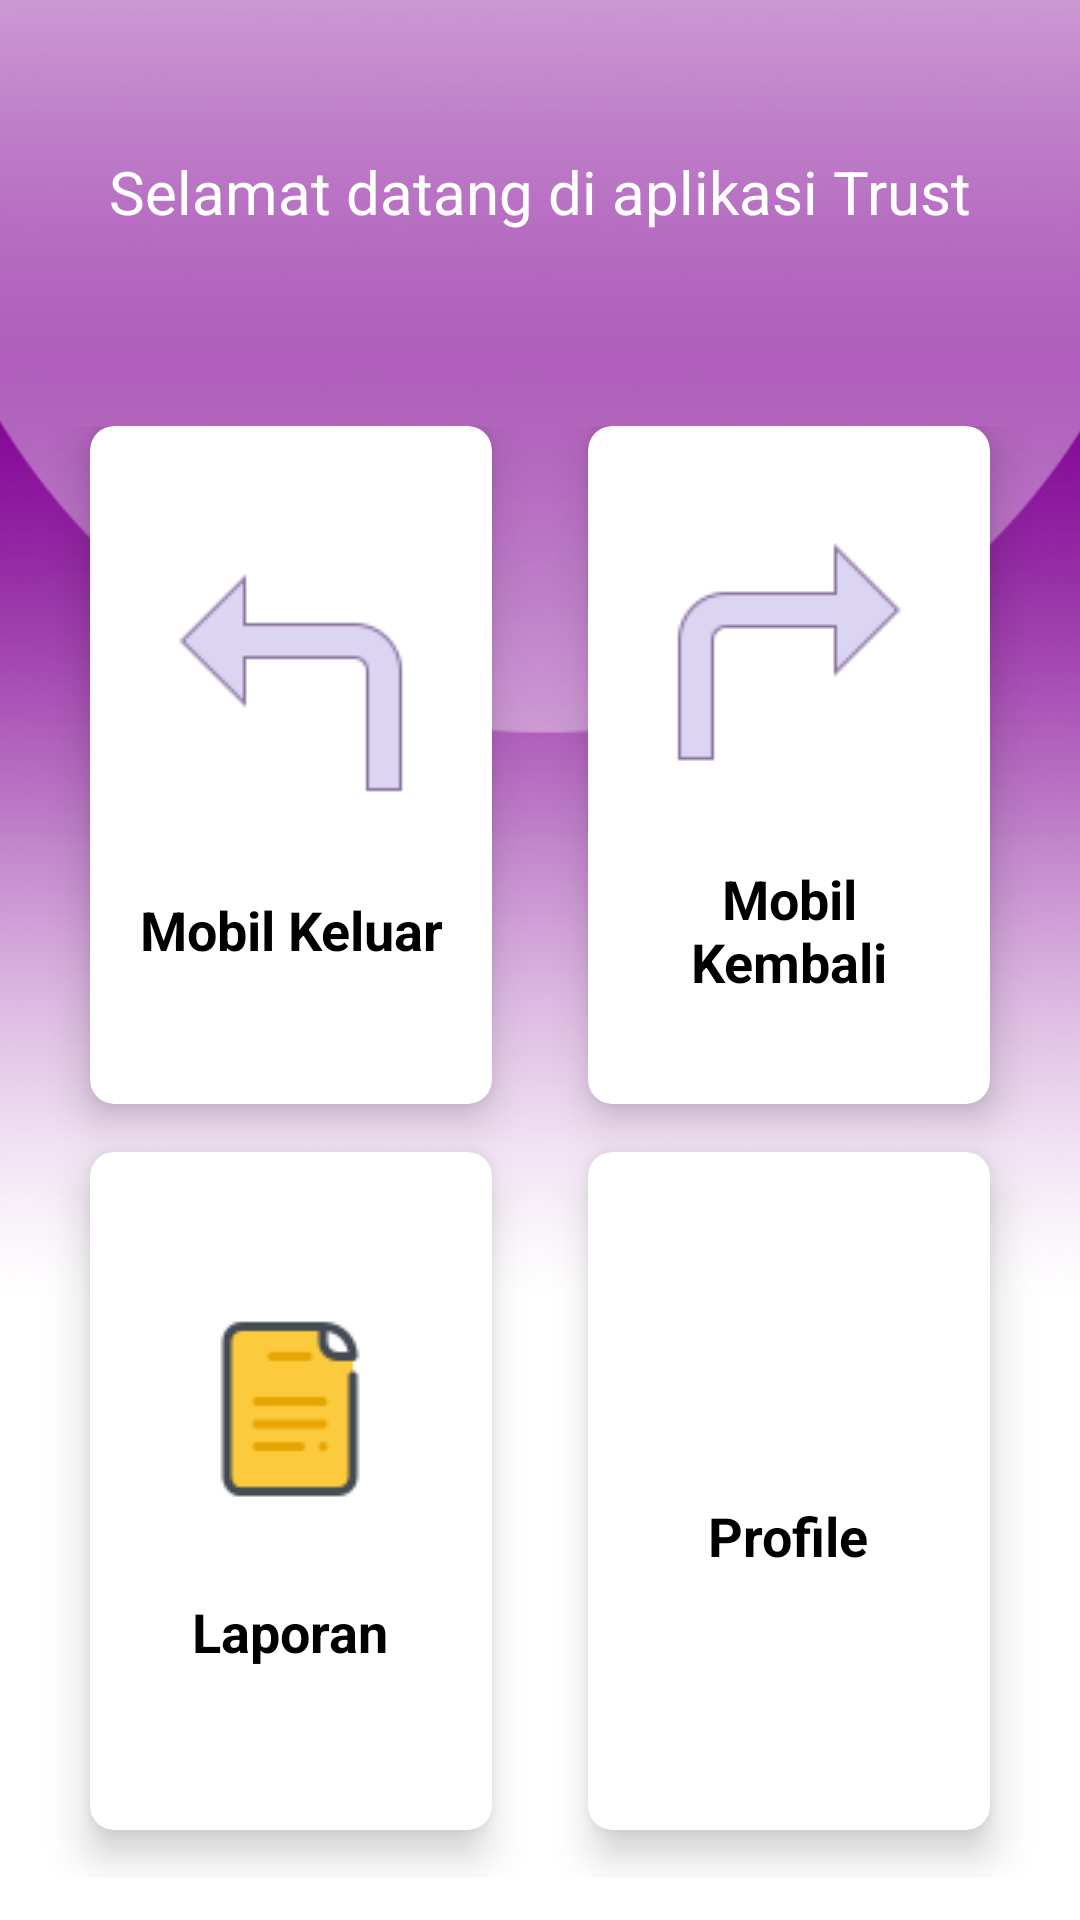

Screen size 1080x1920. Icon name, then its center in pixels as (x,y):
forward: (788,652)
reply: (291,683)
